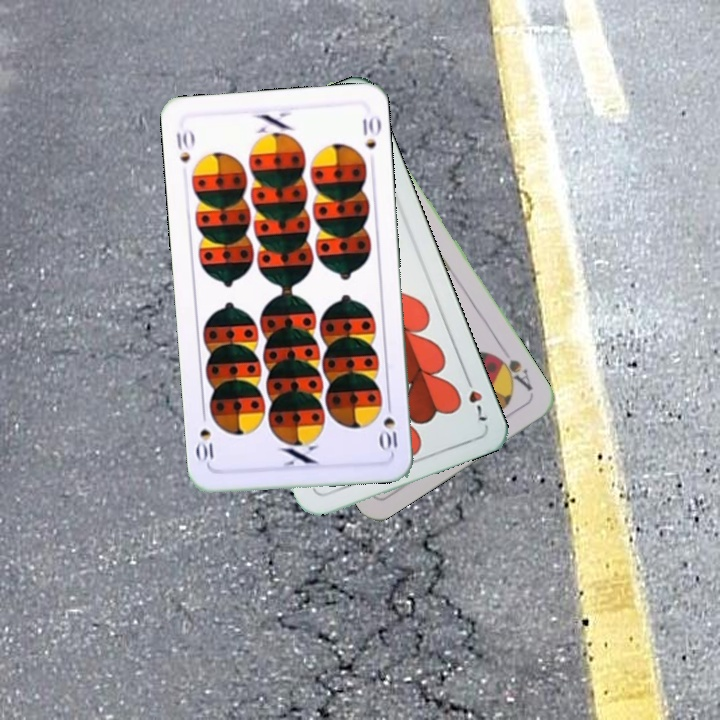H7: (461, 370, 491, 424)
S10: (377, 396, 400, 456), (172, 126, 197, 165)
SA: (489, 350, 536, 394)
